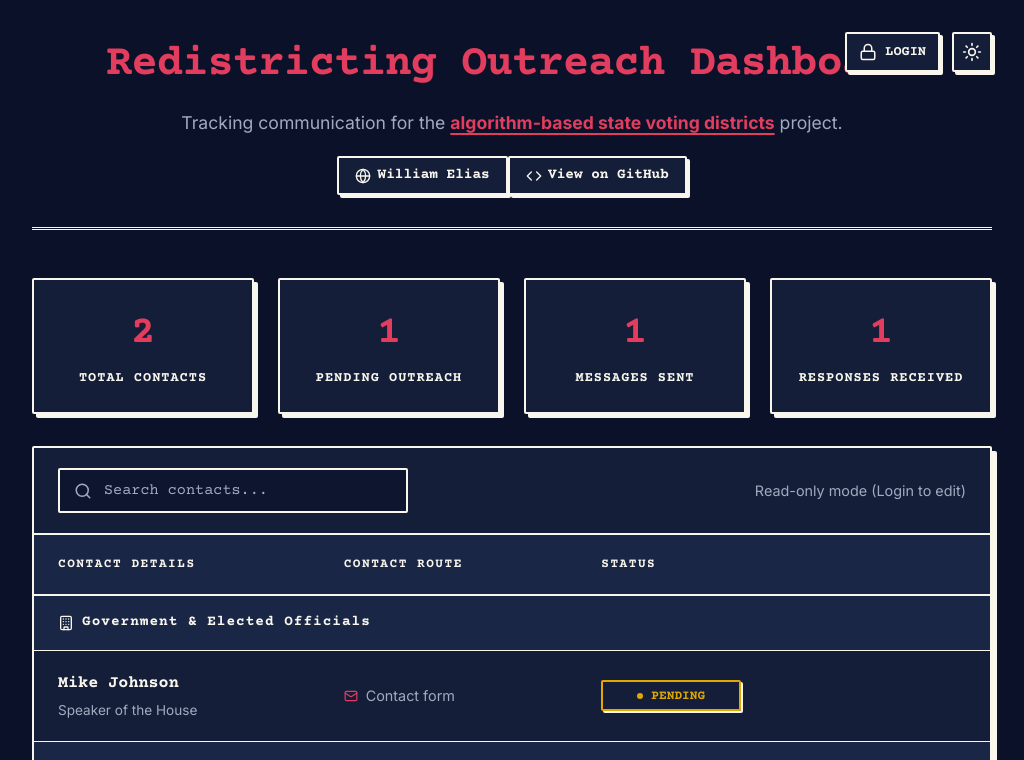
Redistricting Outreach Dashboard › filters contacts based on search query
The width and height of the screenshot is (1024, 760).
Note: Type a query that matches one contact
Type "Mike" into the field with placeholder "Search contacts..." at (233, 491), box left=58, top=468, right=408, bottom=513
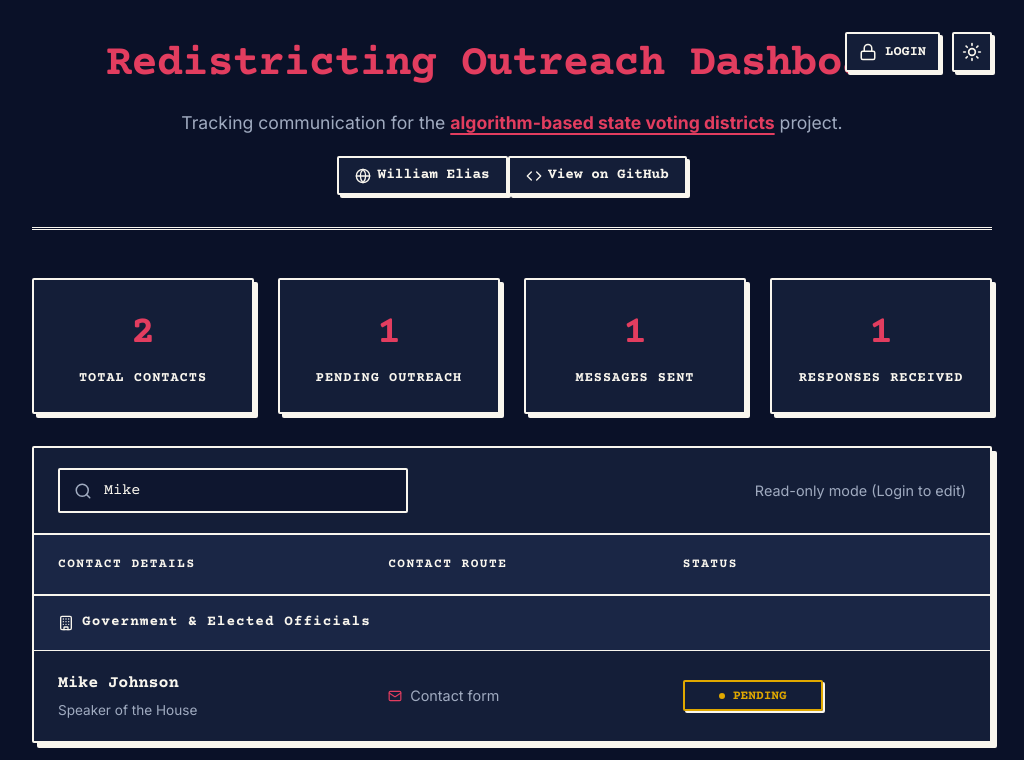
Expected: the text "Mike Johnson" is shown, left=58, top=674, right=179, bottom=693
Note: Type something that doesn't exist
Replace the text in the field with placeholder "Search contacts..." with "NonExistentPerson123" at (233, 491), box left=58, top=468, right=408, bottom=513
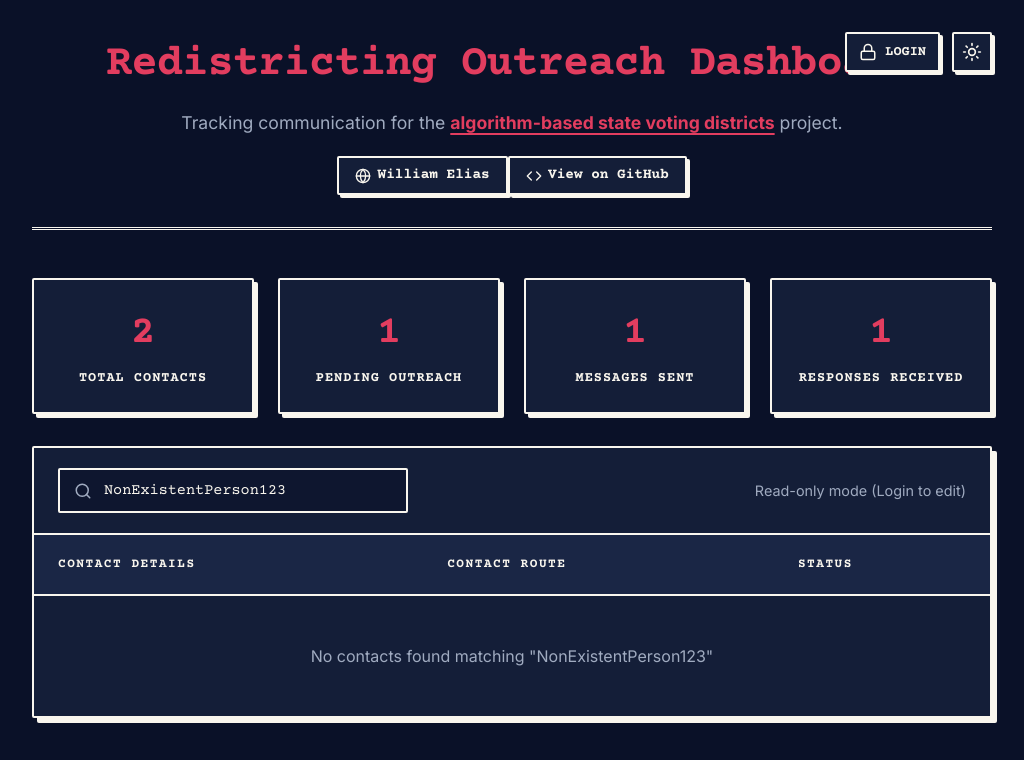
Now the text "Mike Johnson" is gone
Now the text "No contacts found matching \"NonExistentPerson123\"" is shown, box left=34, top=595, right=990, bottom=716
